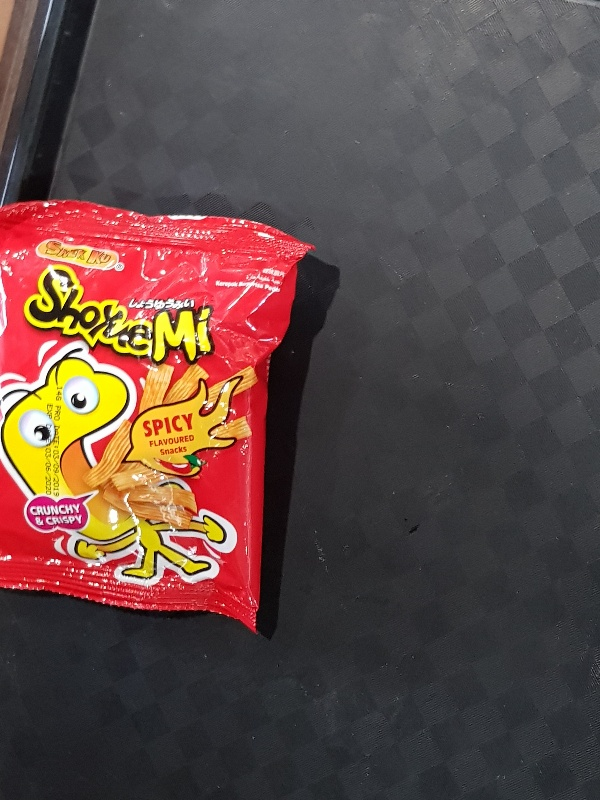ShoyueMi Spicy Flavoured Snacks: (1, 200, 316, 634)
